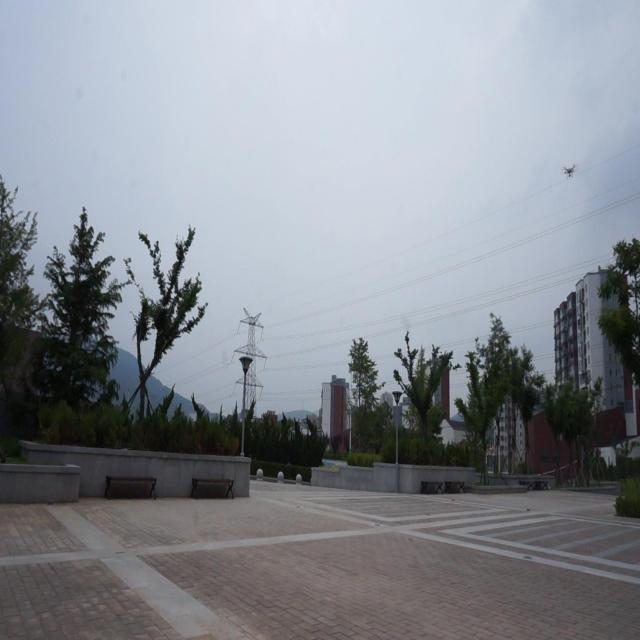UAV: (560, 164, 579, 180)
